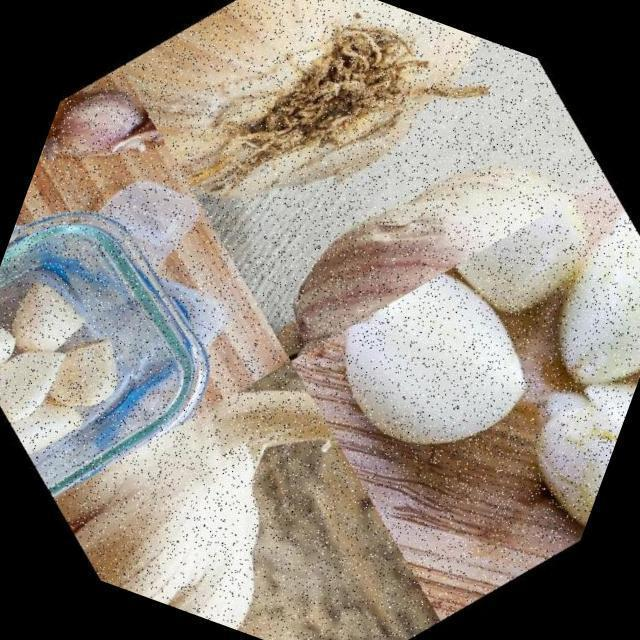garlic: (226, 19, 626, 440), (75, 0, 544, 330), (33, 301, 445, 640), (283, 218, 587, 524), (422, 160, 634, 378), (0, 241, 177, 489), (482, 185, 640, 416), (485, 310, 640, 543), (27, 54, 197, 234)
